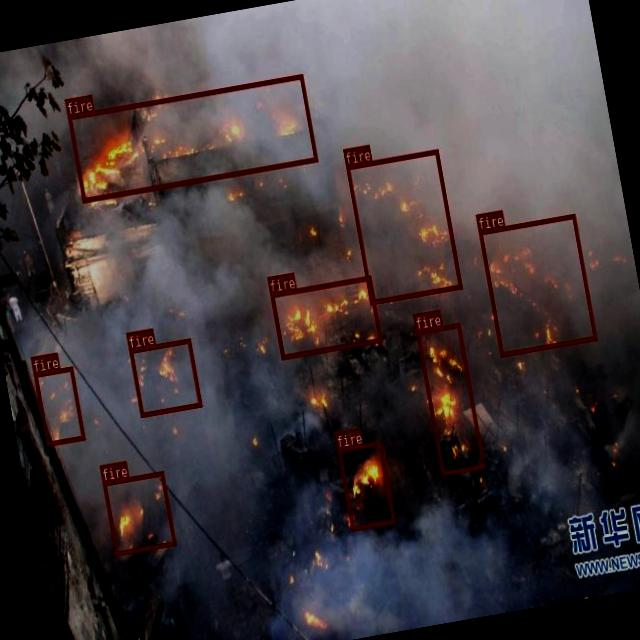fire: (67, 73, 317, 202), (345, 148, 461, 304), (478, 213, 596, 356), (414, 321, 484, 475), (269, 274, 381, 359), (102, 470, 174, 554), (128, 337, 201, 416), (336, 439, 395, 530), (33, 365, 84, 445)
